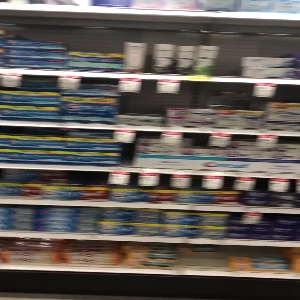void: (217, 17, 242, 78), (177, 244, 226, 271)
